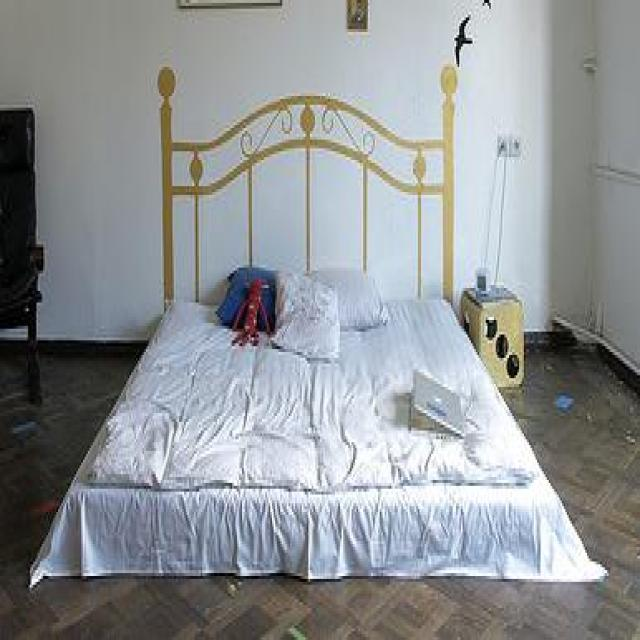bed: (28, 58, 607, 585)
chair: (0, 105, 43, 404)
